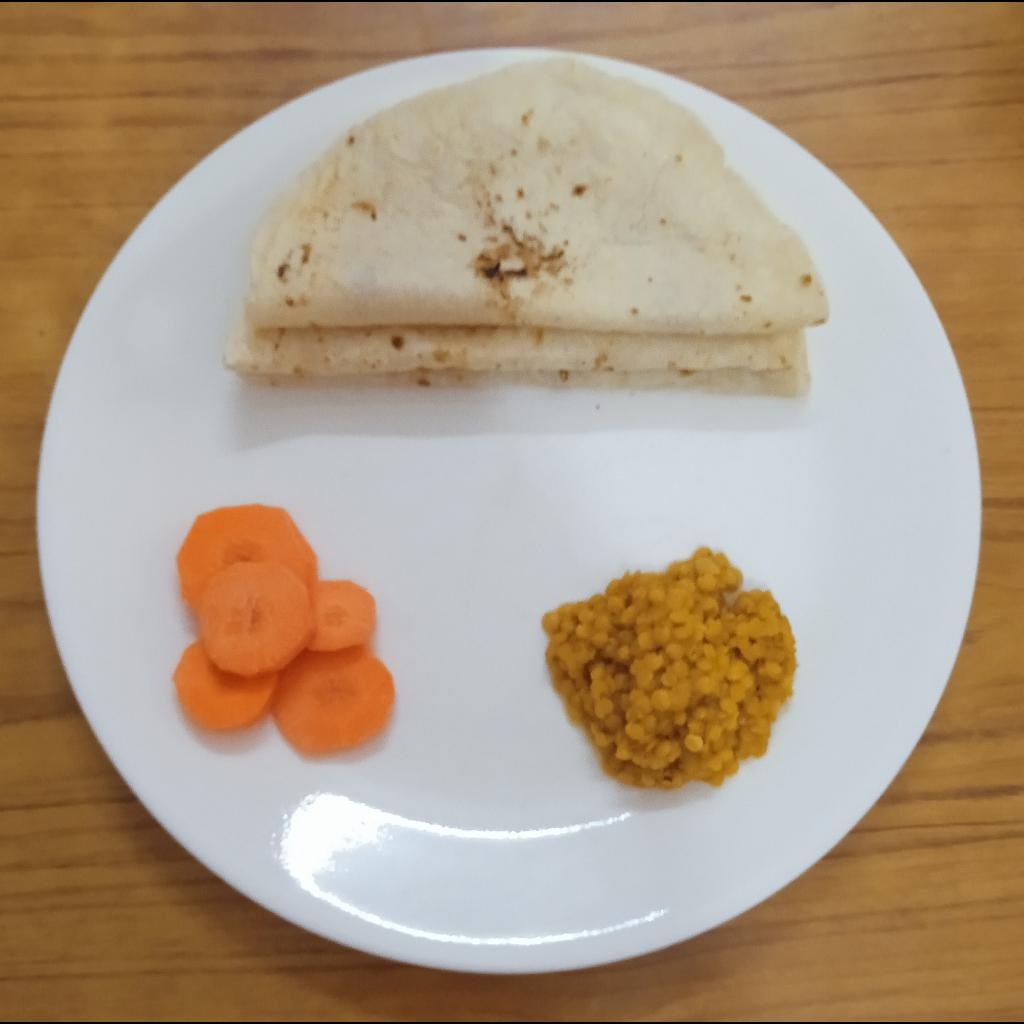carrot: (173, 504, 394, 756)
daal: (538, 547, 795, 791)
ruti: (221, 57, 834, 395)
